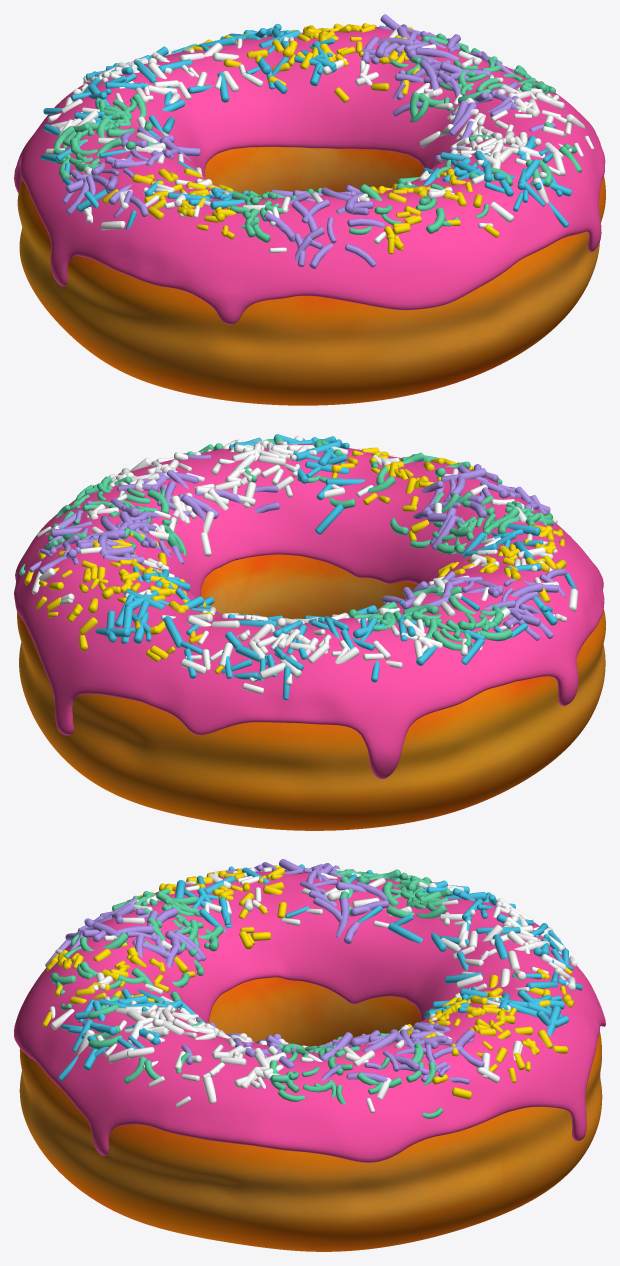
File: wondercake-donut.glb
3 views of the same model, one above another, from view 1: azimuth 30°, elevation 25°; view 2: azimuth 150°, elevation 25°; view 3: azimuth 270°, elevation 25° (orthographic).
Visible parts, largest first — view 1: Es, Donat; view 2: Es, Donat; view 3: Es, Donat.
Boxes of the visible parts, left/top/right/bottom form: Es: left=14, top=27, right=605, bottom=324; Donat: left=17, top=147, right=605, bottom=405; Es: left=14, top=444, right=604, bottom=779; Donat: left=17, top=554, right=605, bottom=830; Es: left=14, top=871, right=605, bottom=1162; Donat: left=19, top=977, right=602, bottom=1251.
Bounding box in the file's own units: 0.1496 × 0.0573 × 0.1458.
Materials: 8 (1 with a texture image).
